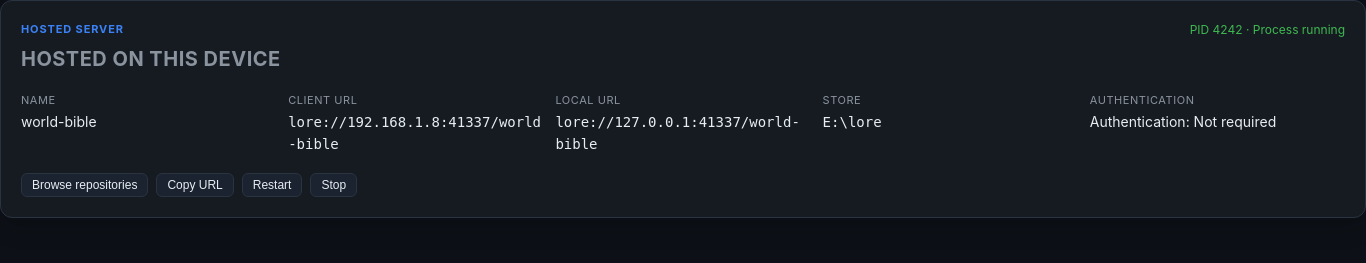
Scenario: HostedServerCard › suppresses a pending copy resolve after a newer stopped poll
Click the button "Copy URL". click: (195, 185)
box: x1=156 y1=173 x2=234 y2=197
Wait 25 ms
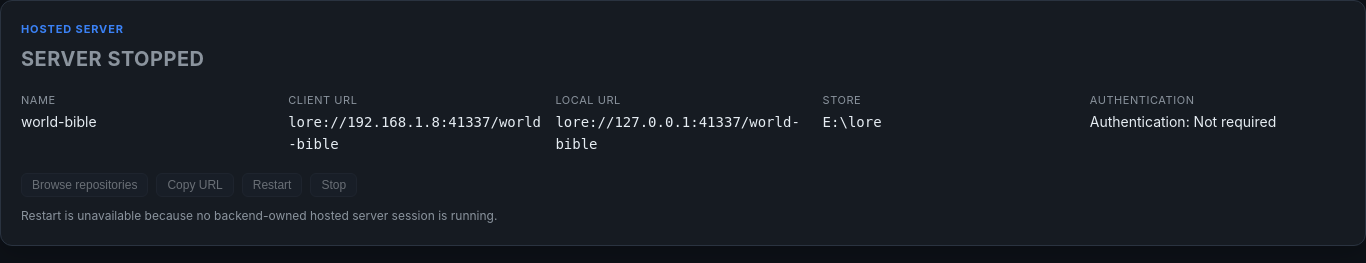
Now the heading "Server stopped" is shown, box x1=21 y1=44 x2=204 y2=74
